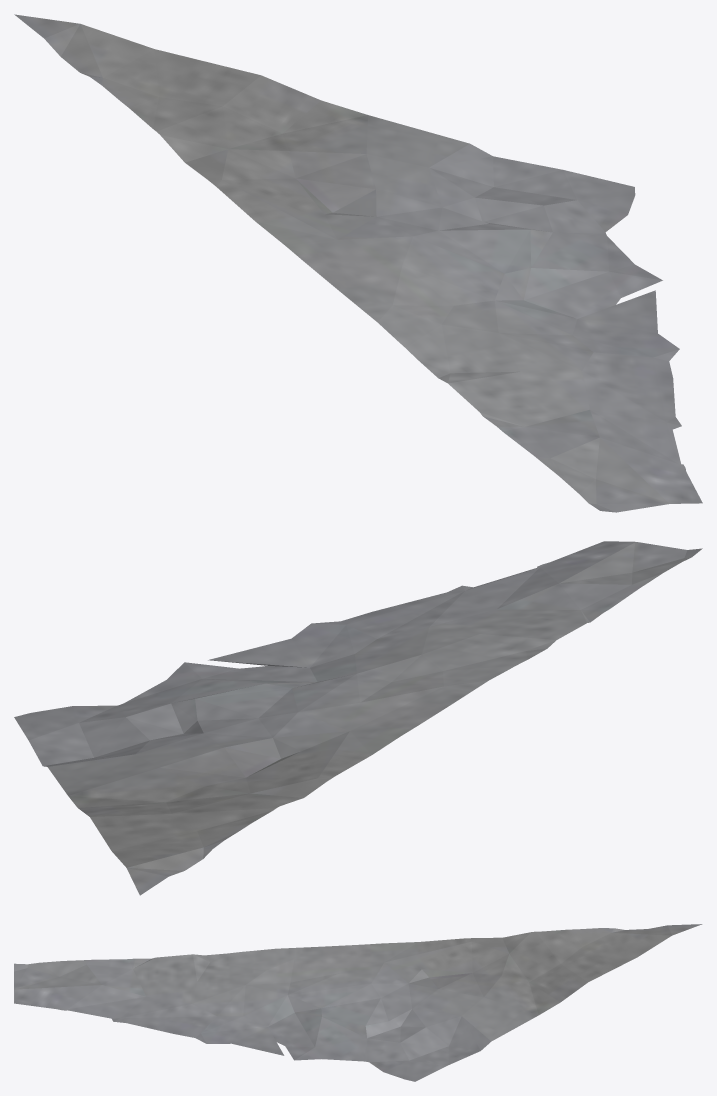
The picture shows the model from 3 angles, top to bottom: view 1: azimuth 30°, elevation 25°; view 2: azimuth 150°, elevation 25°; view 3: azimuth 270°, elevation 25°; orthographic projection. The views are drawn at different scales.
Bounding box in the file's own units: 1.11 × 0.2391 × 2.99.
Materials: 1 (1 with a texture image).
